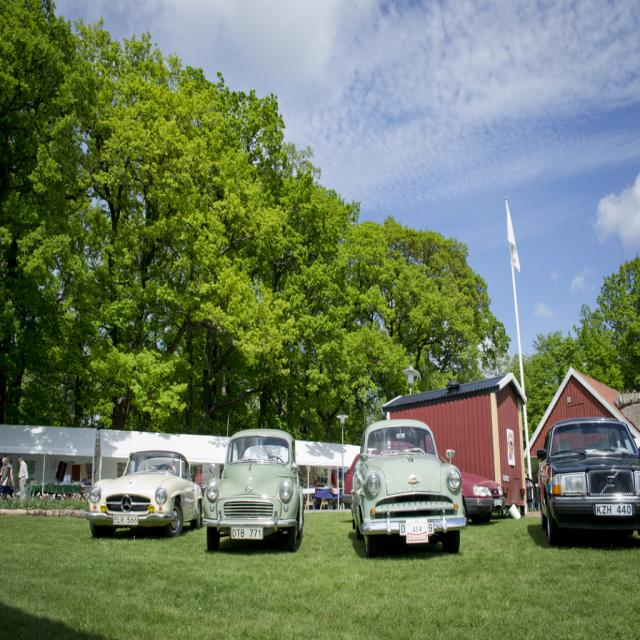car: (355, 417, 466, 551), (203, 429, 304, 547), (87, 444, 203, 537)
